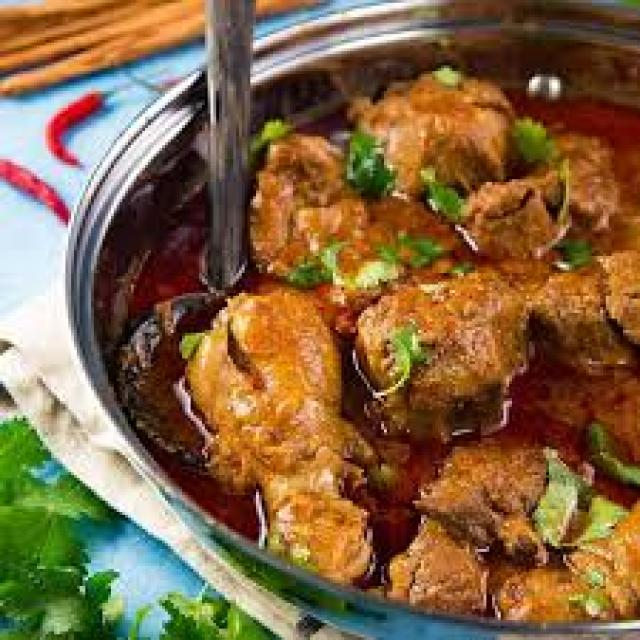Frango: (151, 77, 640, 640)
